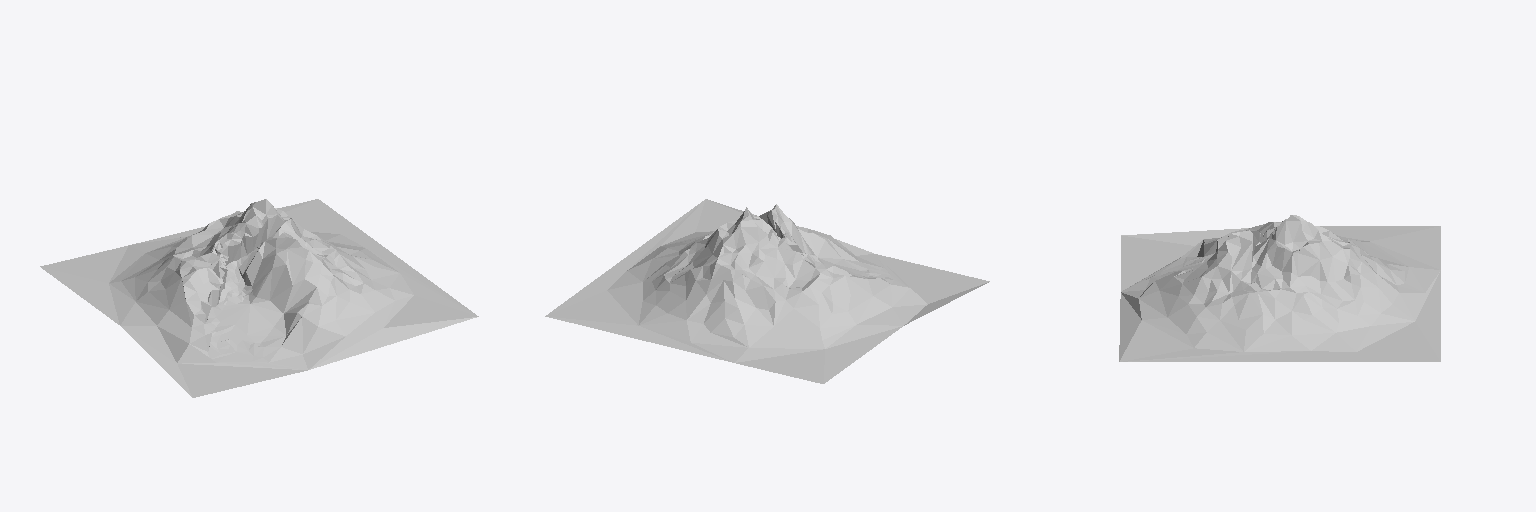
Rendered from mountain__gorge.obj.
The picture shows the model from 3 angles: view 1: azimuth 30°, elevation 25°; view 2: azimuth 150°, elevation 25°; view 3: azimuth 270°, elevation 25°; orthographic projection.
Visible parts, largest first — view 1: Landscape.001; view 2: Landscape.001; view 3: Landscape.001.
Part boxes in pixels (x1,y1,x2,y2): Landscape.001: (40,199,478,397); Landscape.001: (545,199,989,383); Landscape.001: (1119,215,1440,361).
Bounding box in the file's own units: 18.43 × 6.1 × 18.